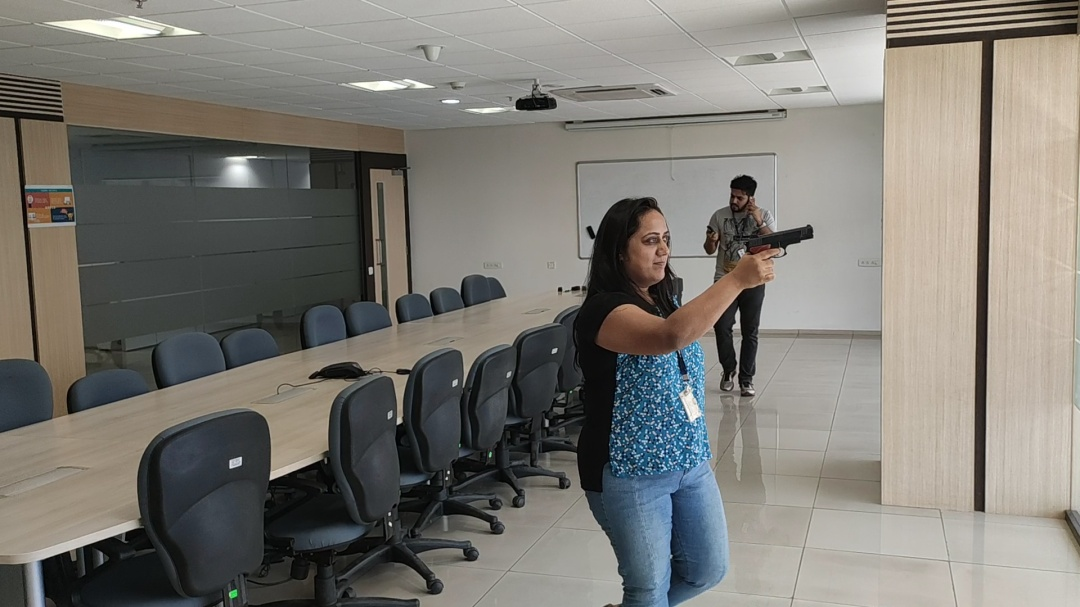gun: (744, 224, 816, 258)
